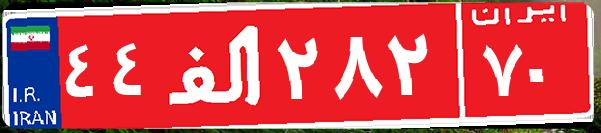0: (525, 38, 570, 115)
2: (385, 28, 445, 110), (273, 28, 330, 110)
4: (57, 26, 110, 107), (110, 28, 158, 105)
7: (475, 38, 525, 113)
8: (330, 28, 385, 110)
الف: (158, 15, 273, 115)
